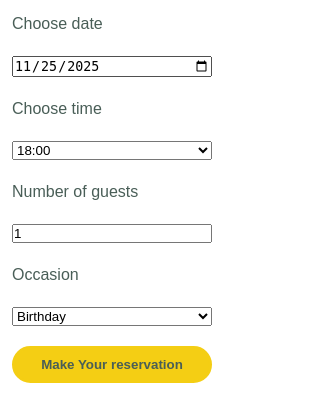
Test: BookingForm › disables submit button if guests is less than 1
Type "0" into the number field labelled "Number of guests". click: (112, 234)
box: [12,224,212,243]
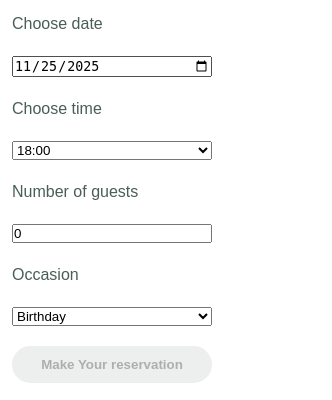
Expected: the button with aria-label "submit reservation" is disabled, [12,346,212,383]
